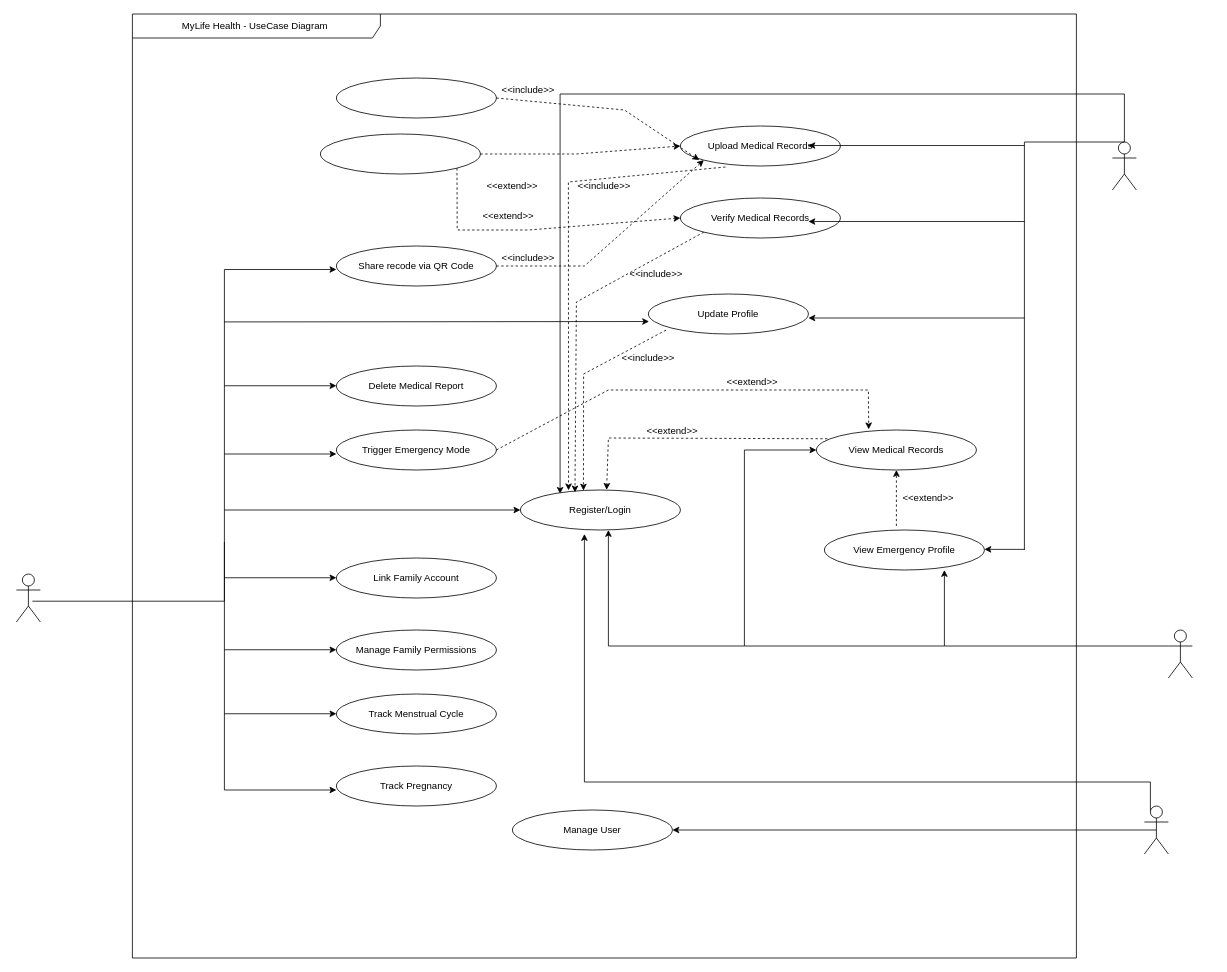
Image size: 1227x972. Some labels were removed from this diagram. The centre of each missing label's shape, as x and y in pixels:
"Admin" belongs at pixel 1156 829.
"Doctor" belongs at pixel 1124 165.
"Family Member" belongs at pixel 1180 653.
"Patient" belongs at pixel 28 597.
"Process Documents with AI" belongs at pixel 416 97.
"Receive Notifications" belongs at pixel 400 153.
